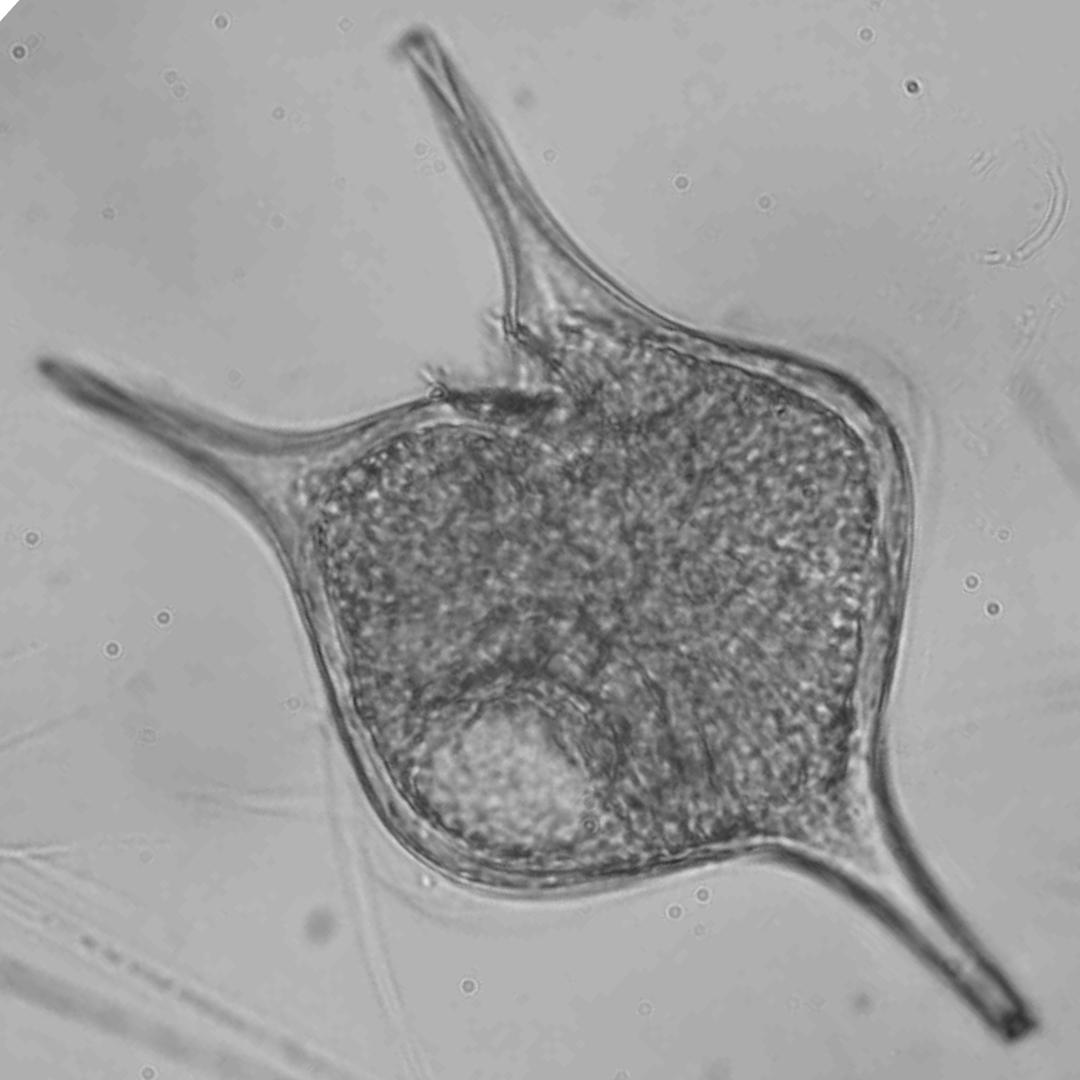protoperidinium_oceanicum: (45, 27, 1037, 1039)
